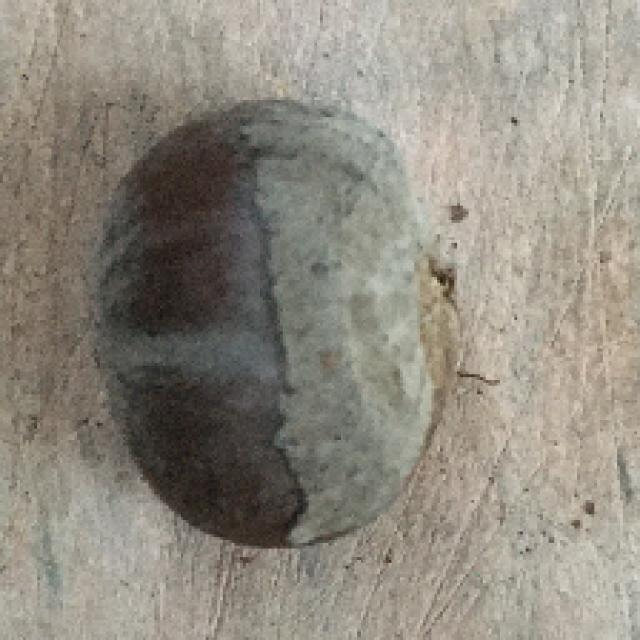damagedHazelnut: (83, 93, 463, 548)
